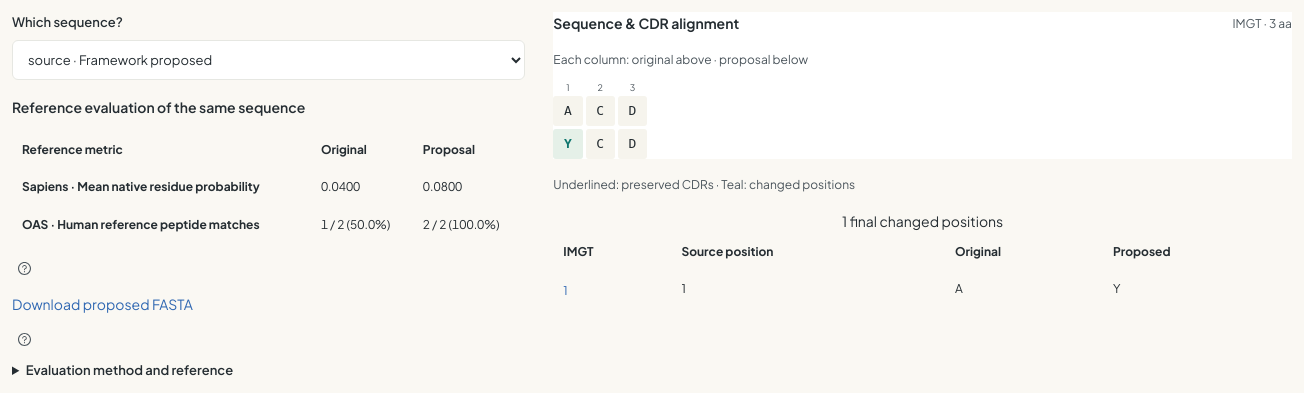
Scenario: a changed-position row locates the exact original and proposed residues in one aligned column
Click the button named "Locate IMGT 1" at (566, 291), box x1=563 y1=279 x2=568 y2=302
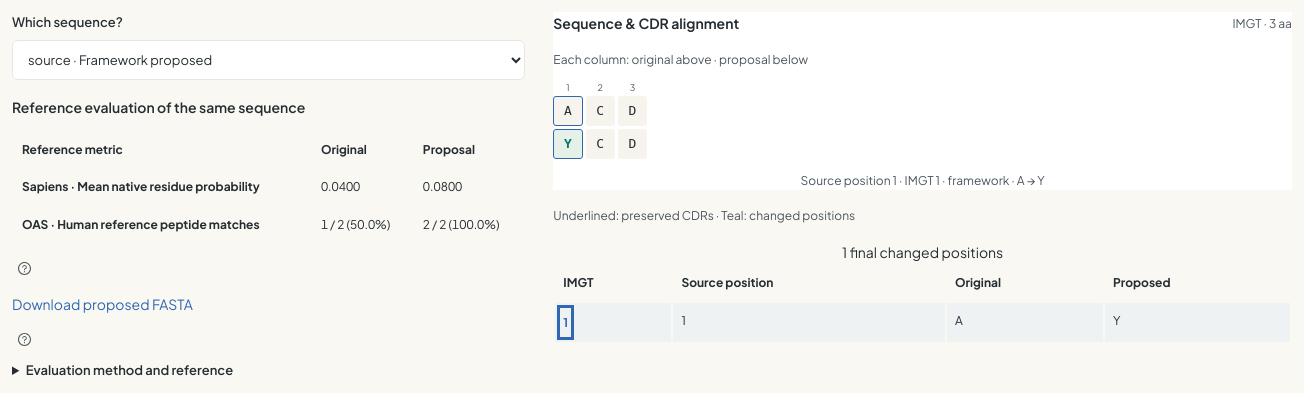
Now the text "Source position 1 · IMGT 1 · framework · A → Y" is shown, box x1=800 y1=173 x2=1045 y2=188
